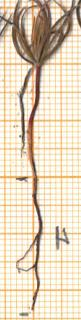flower: (9, 0, 78, 68)
root: (15, 175, 45, 313)
stem: (23, 69, 43, 178)
